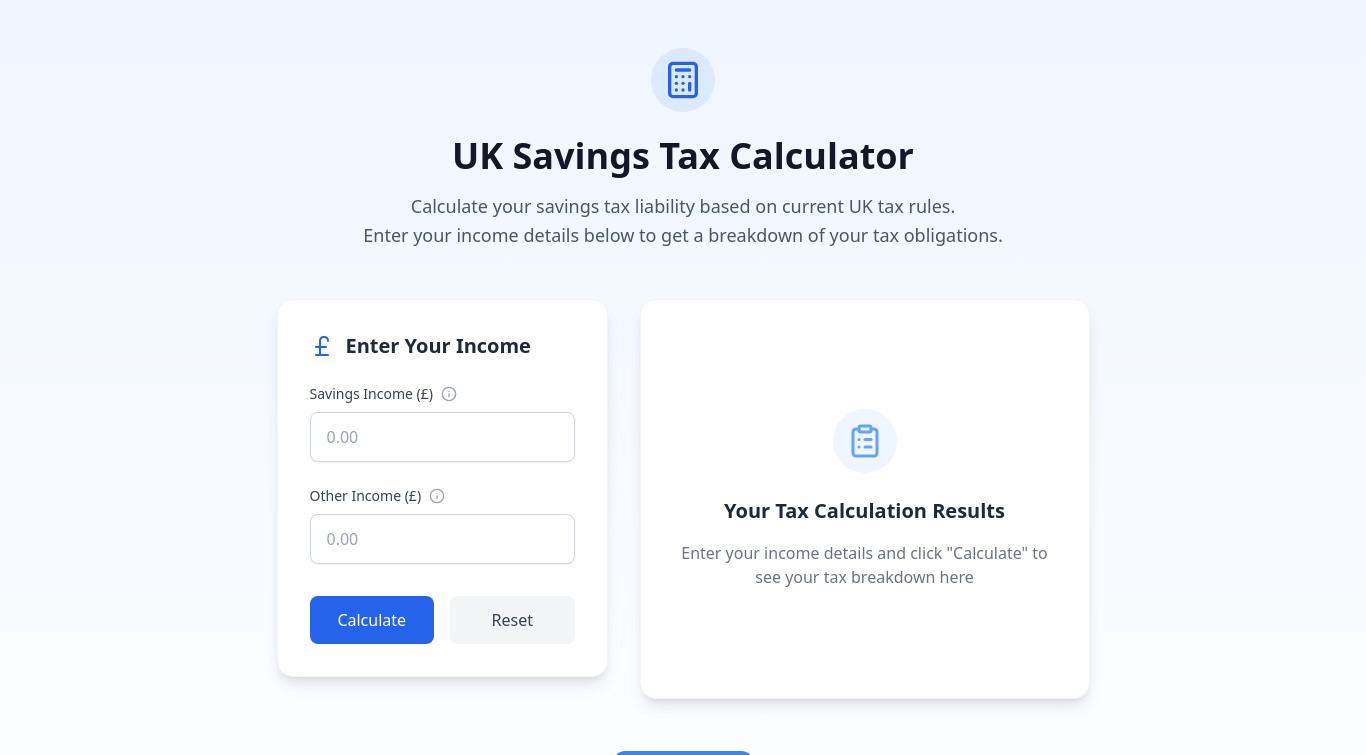
calculate the pounds the person submitted › shows the other income error and leaves the existing tax due when other income is negative
In the field with placeholder "0.00" below "Savings Income (£)": point(442, 436) [310, 412, 574, 462], type "1001.90"
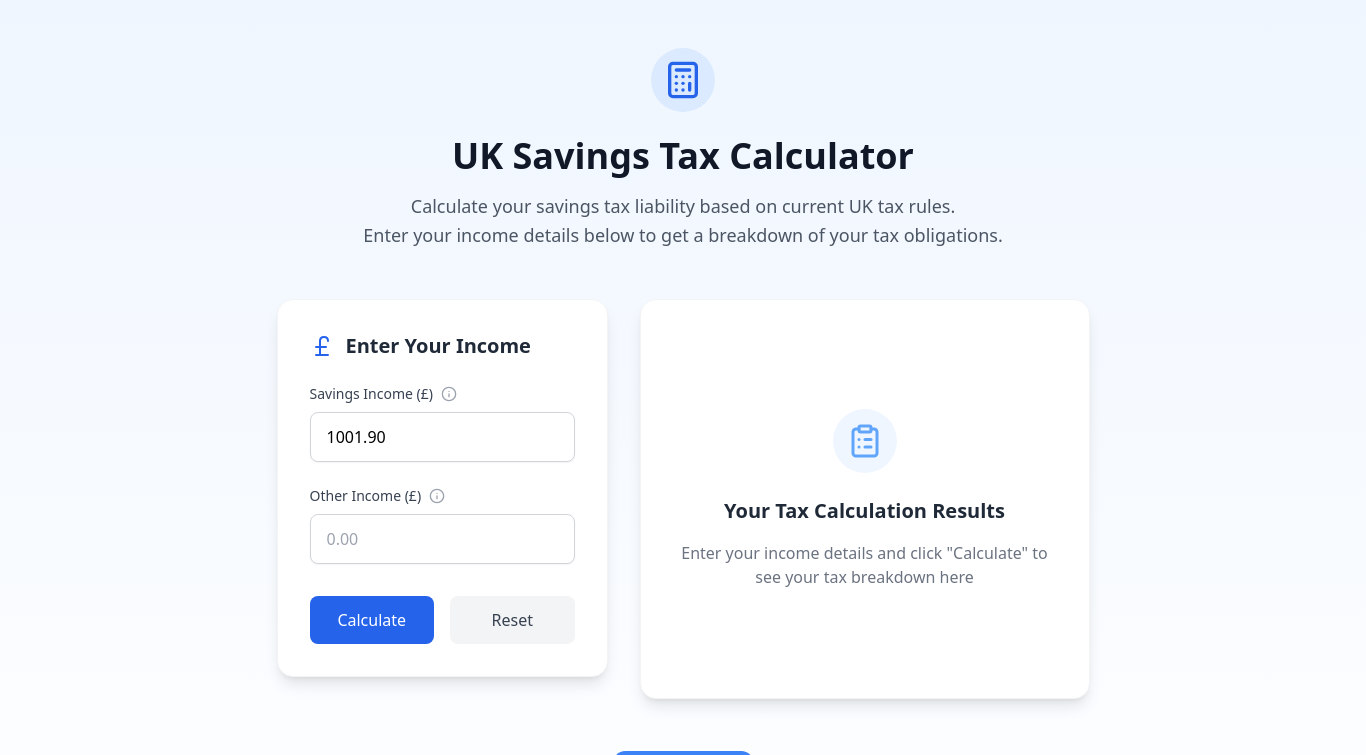
In the field with placeholder "0.00": point(442, 538) [310, 514, 574, 564], type "20000.40"
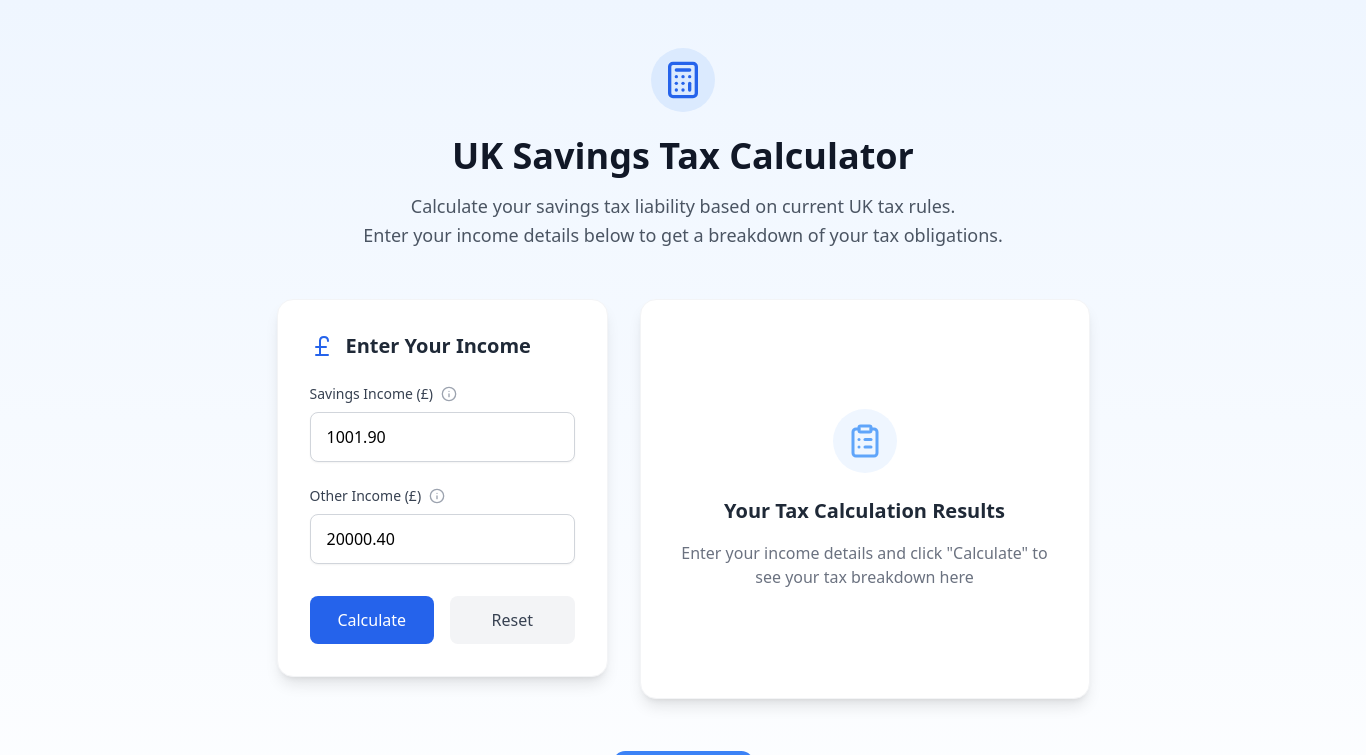
Click the button "Calculate": point(372, 620) [310, 596, 434, 644]
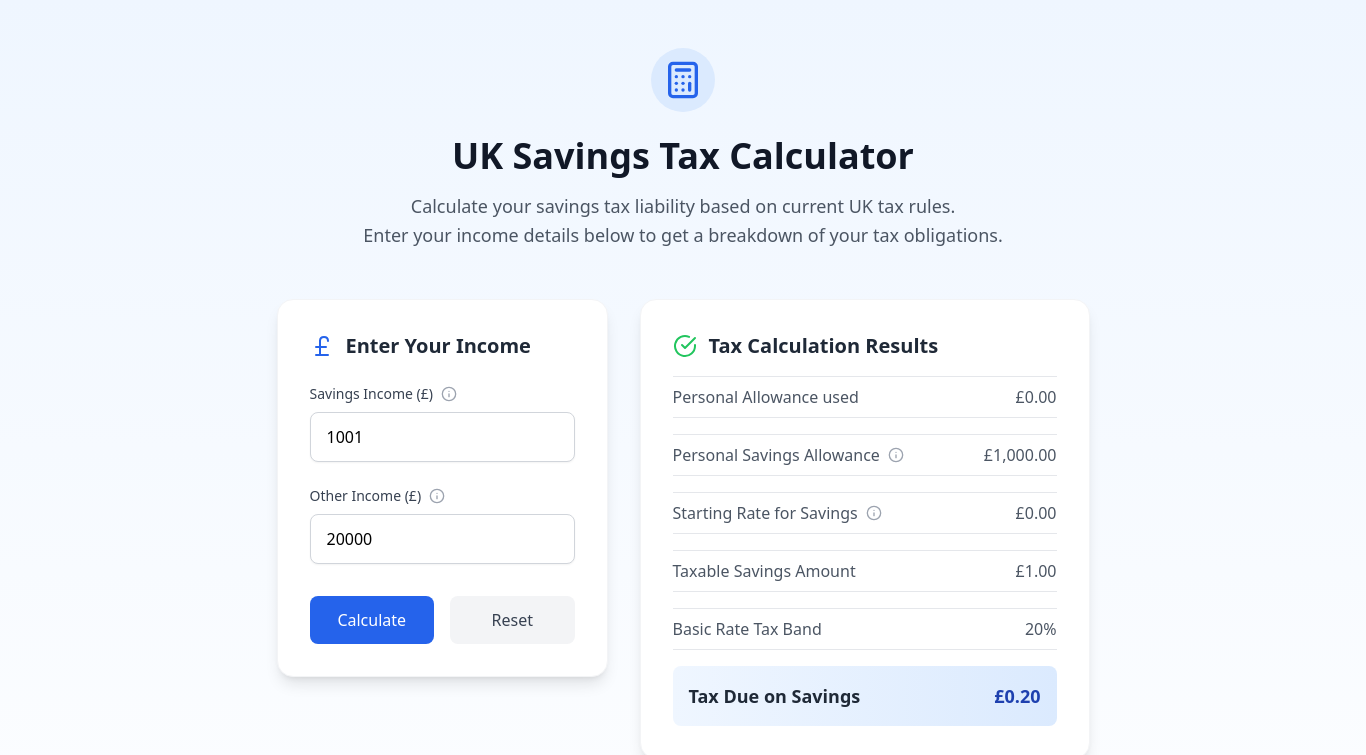
Replace the text in the field below "Other Income (£)" with "-0.40": point(442, 538) [310, 514, 574, 564]
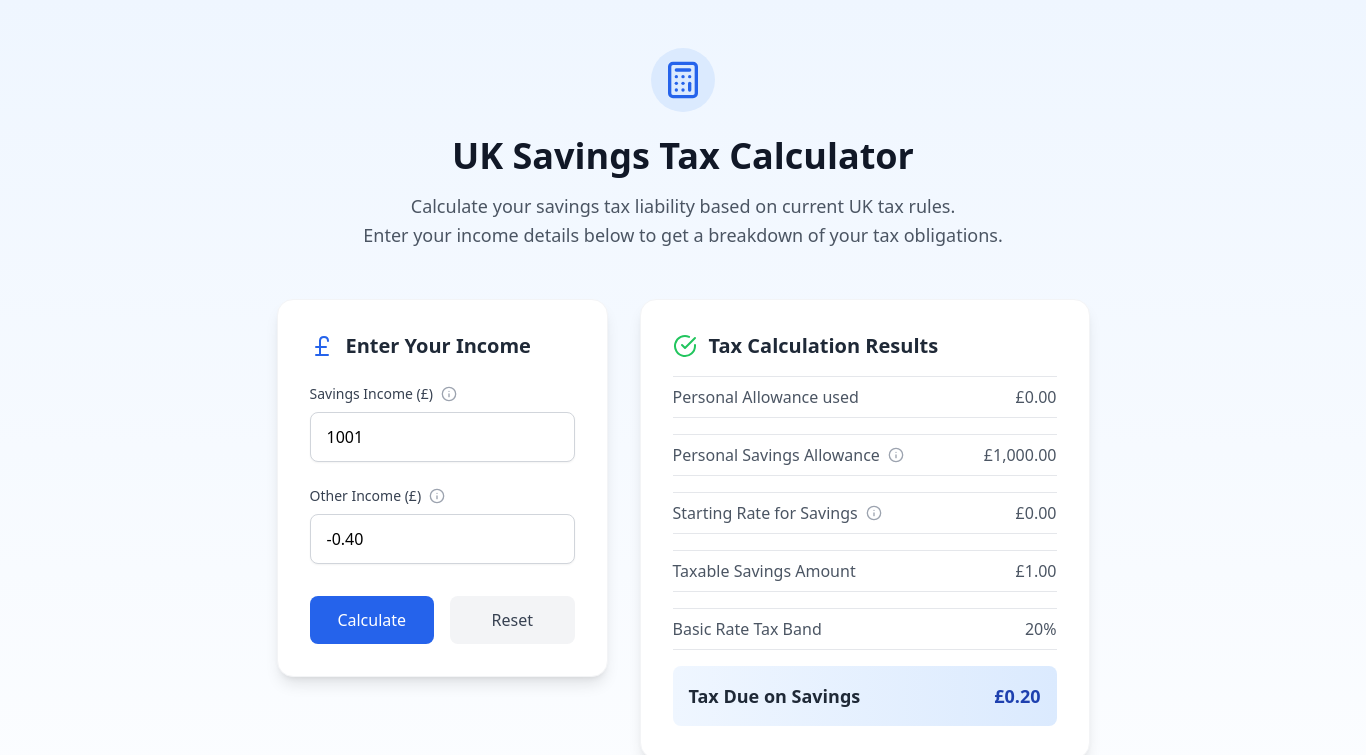
Click the button "Calculate": point(372, 620) [310, 596, 434, 644]
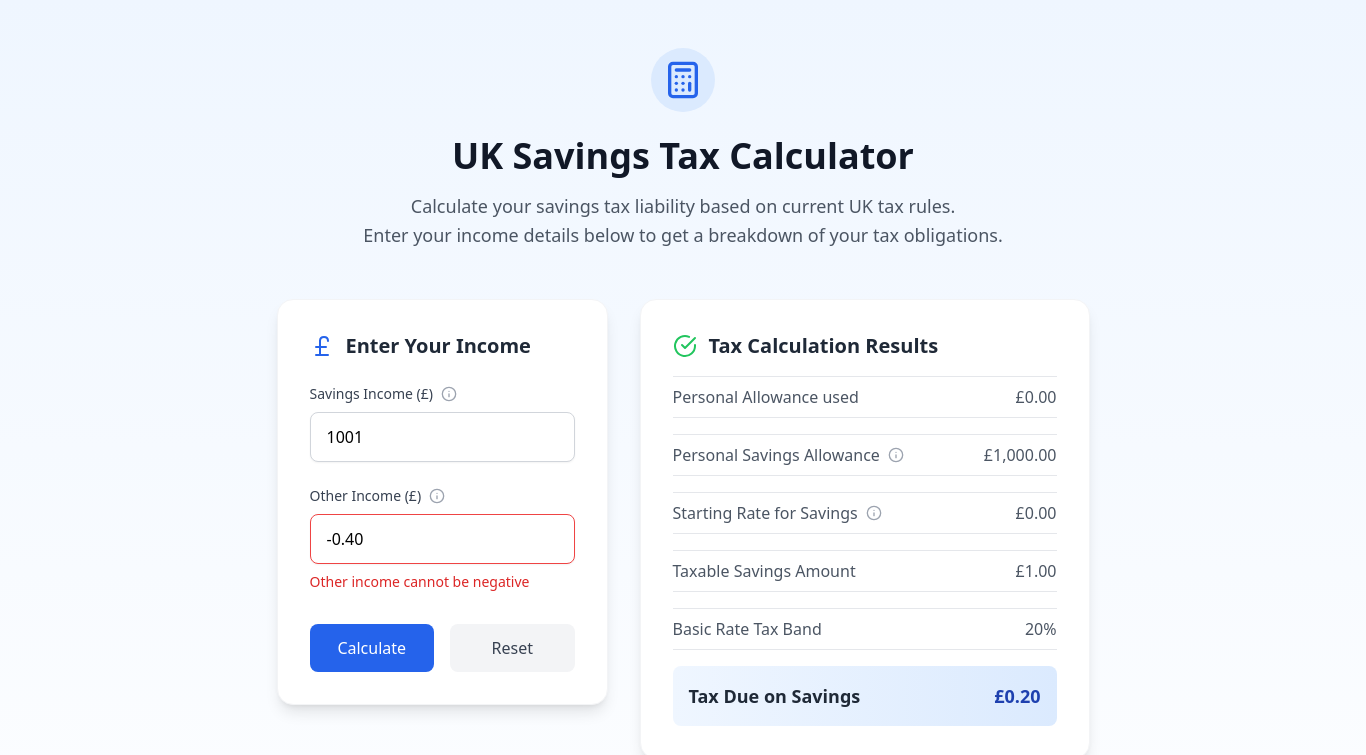
Expected: the text "Other income cannot be negative" is shown, [310, 572, 529, 590]
